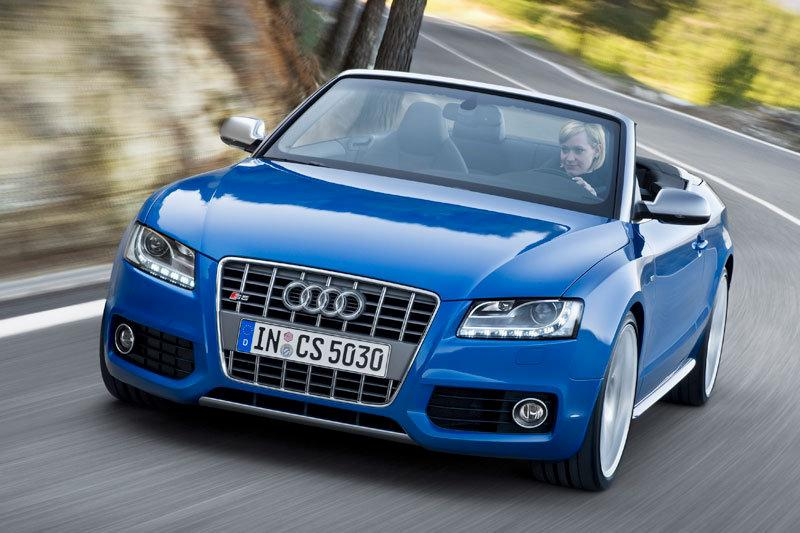Audi: (273, 273, 376, 329)
